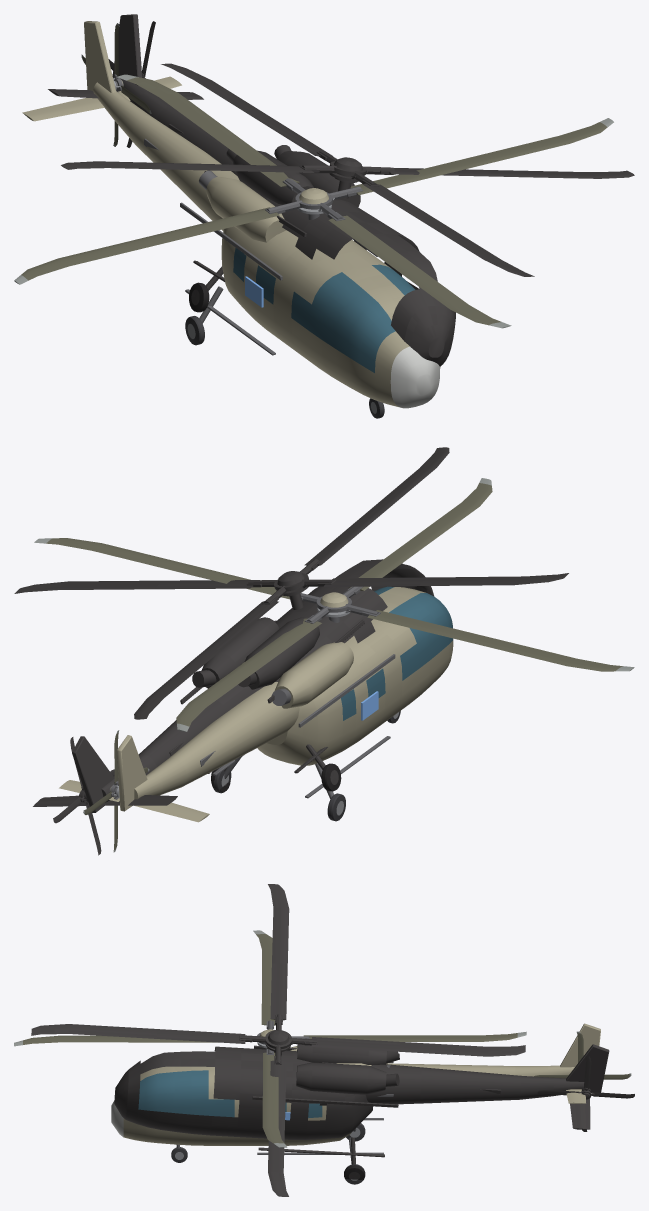
The model's file is helicopter__muh_1_marineon.glb.
3 views of the same model, one above another, from view 1: azimuth 30°, elevation 25°; view 2: azimuth 150°, elevation 25°; view 3: azimuth 270°, elevation 25° (orthographic). The views are drawn at different scales.
Parts seen in each view (by area): view 1: Fuselage_Mesh, Wreck, Rotor_Main_Mesh, Engines_Mesh, Landing_Gear_Mesh, Rotor_Tail_Mesh; view 2: Wreck, Fuselage_Mesh, Rotor_Main_Mesh, Engines_Mesh, Landing_Gear_Mesh, Rotor_Tail_Mesh; view 3: Wreck, Fuselage_Mesh, Rotor_Main_Mesh, Landing_Gear_Mesh.
Boxes of the visible parts, x1=… form: Fuselage_Mesh: x1=22, y1=21, x2=440, y2=408; Wreck: x1=48, y1=14, x2=634, y2=366; Rotor_Main_Mesh: x1=14, y1=74, x2=613, y2=328; Engines_Mesh: x1=199, y1=170, x2=286, y2=242; Landing_Gear_Mesh: x1=185, y1=286, x2=384, y2=418; Rotor_Tail_Mesh: x1=81, y1=23, x2=151, y2=146; Wreck: x1=14, y1=447, x2=568, y2=855; Fuselage_Mesh: x1=59, y1=586, x2=453, y2=822; Rotor_Main_Mesh: x1=34, y1=478, x2=634, y2=731; Engines_Mesh: x1=242, y1=642, x2=353, y2=708; Landing_Gear_Mesh: x1=213, y1=711, x2=400, y2=821; Rotor_Tail_Mesh: x1=83, y1=730, x2=149, y2=852; Wreck: x1=31, y1=884, x2=634, y2=1196; Fuselage_Mesh: x1=111, y1=1023, x2=600, y2=1154; Rotor_Main_Mesh: x1=14, y1=930, x2=526, y2=1147; Landing_Gear_Mesh: x1=171, y1=1123, x2=365, y2=1184.
Size of what is drawn, in the model's own units: 16.32 by 6.5 by 19.14.
